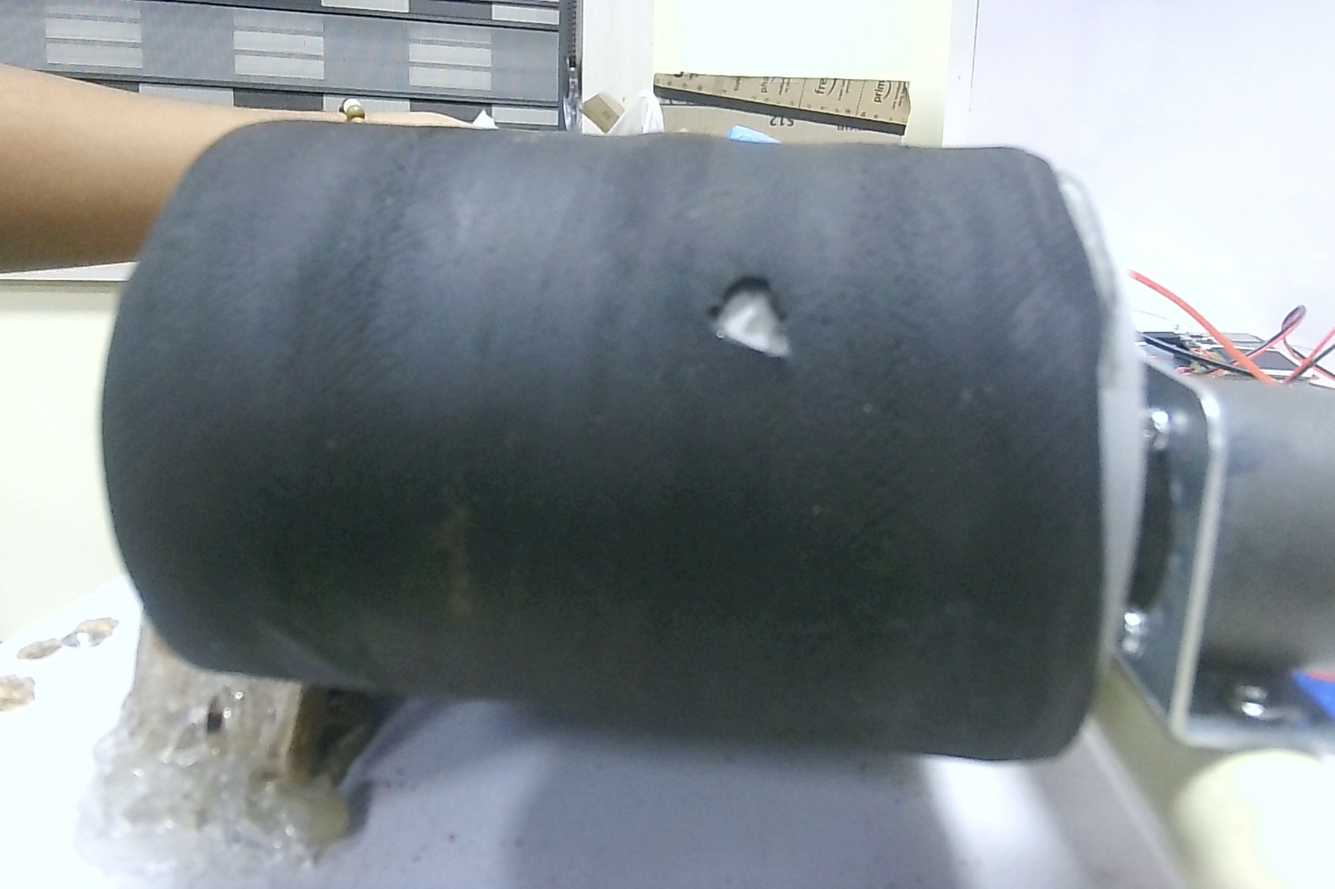hole: (704, 271, 792, 362)
